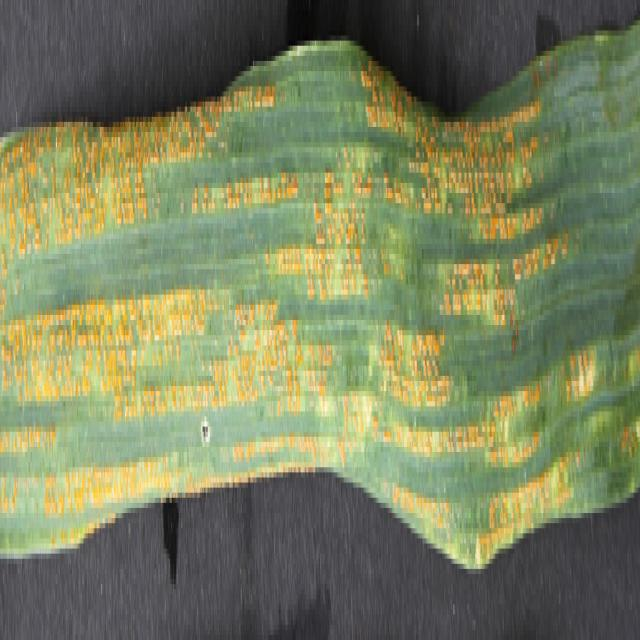leaf rust: (1, 102, 636, 528)
